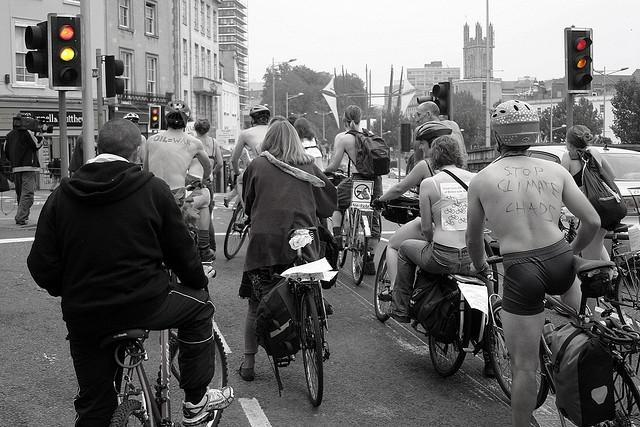bicycle: (483, 254, 640, 422), (374, 244, 489, 376), (109, 319, 234, 427), (290, 235, 330, 414), (324, 168, 373, 285), (599, 222, 640, 335), (223, 204, 248, 260), (314, 278, 328, 322)
car: (526, 143, 640, 226), (388, 168, 406, 178)
